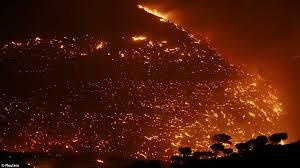fire: (137, 4, 170, 22)
